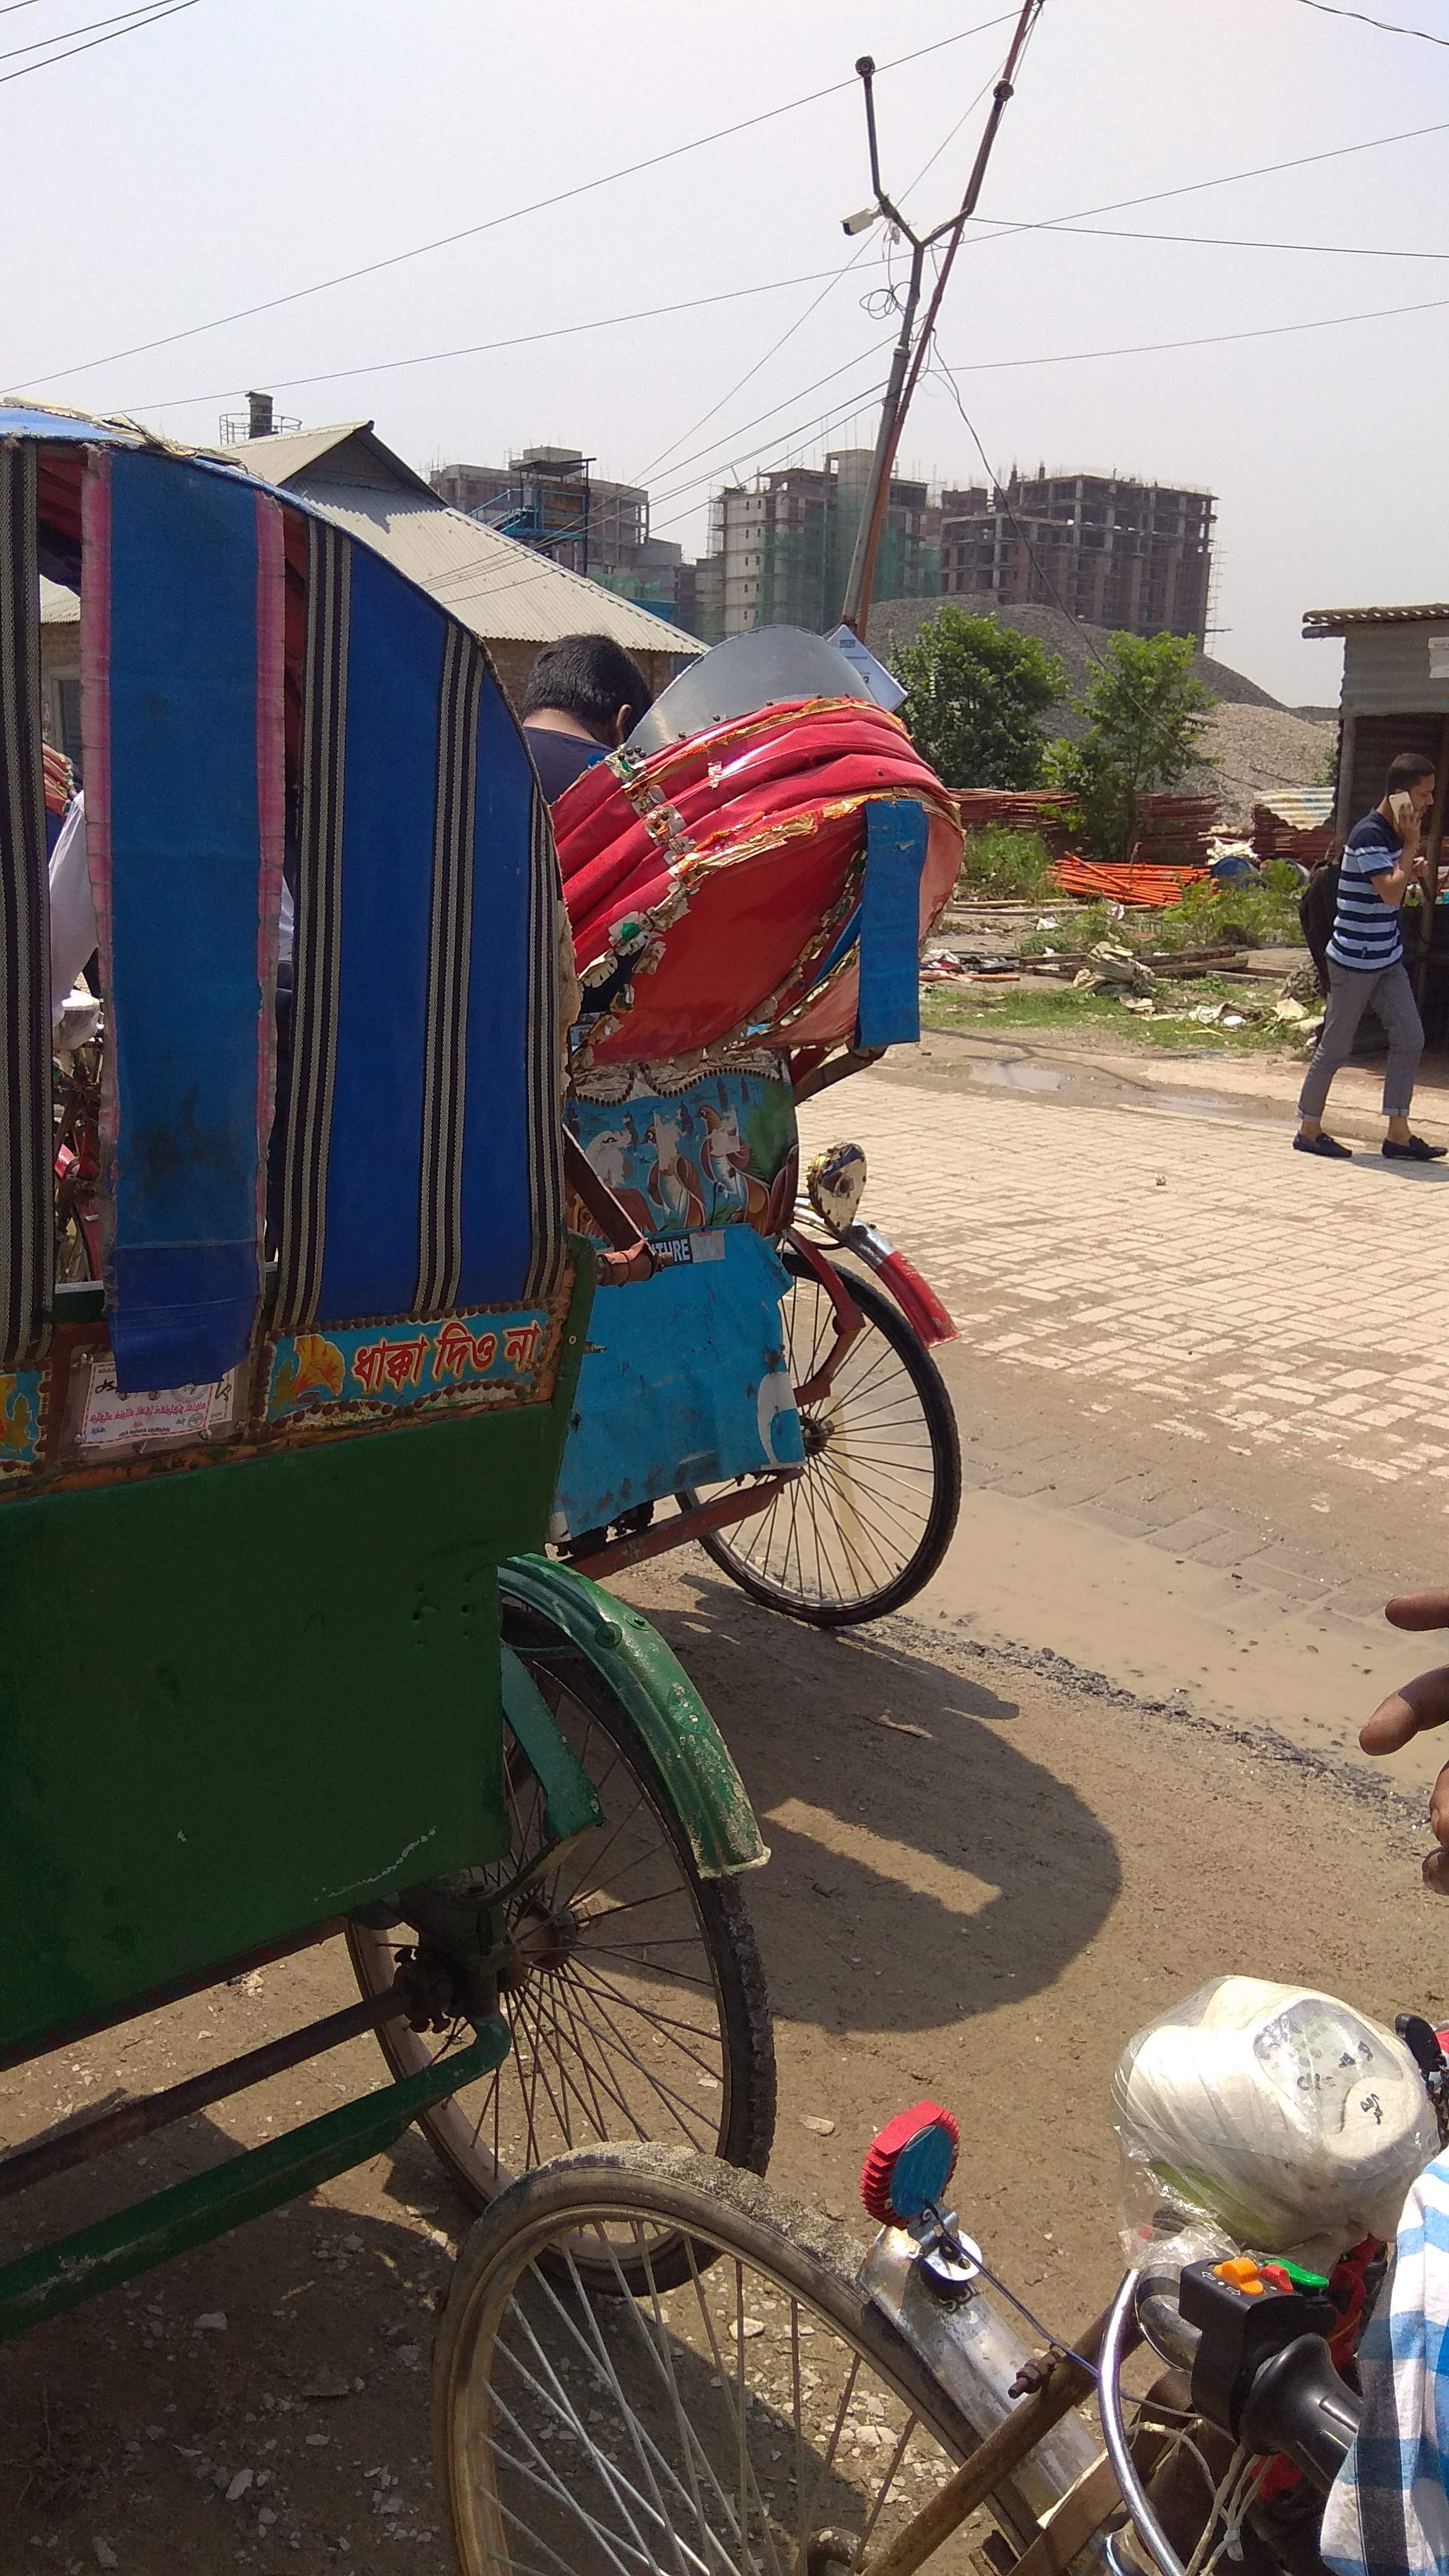Rickshaw: (9, 361, 778, 2321), (474, 556, 1016, 1675), (405, 2003, 1444, 2530)
